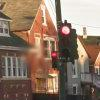Traffic light: (45, 15, 83, 72)
